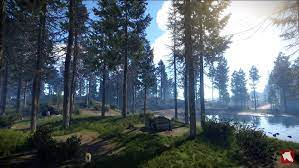tree: (183, 1, 200, 137), (198, 1, 210, 128), (63, 1, 73, 129), (95, 1, 106, 117), (119, 1, 129, 118), (31, 1, 40, 129), (138, 50, 154, 115), (1, 47, 15, 116)
